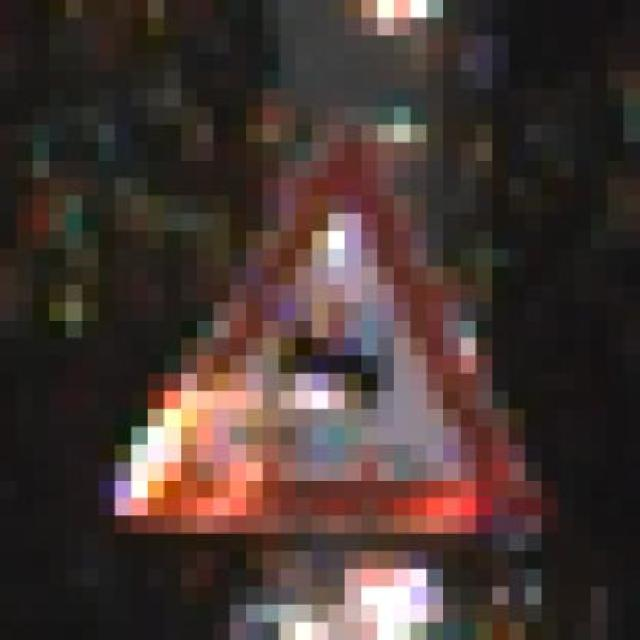Slippery Road Ahead: (99, 124, 558, 534)
